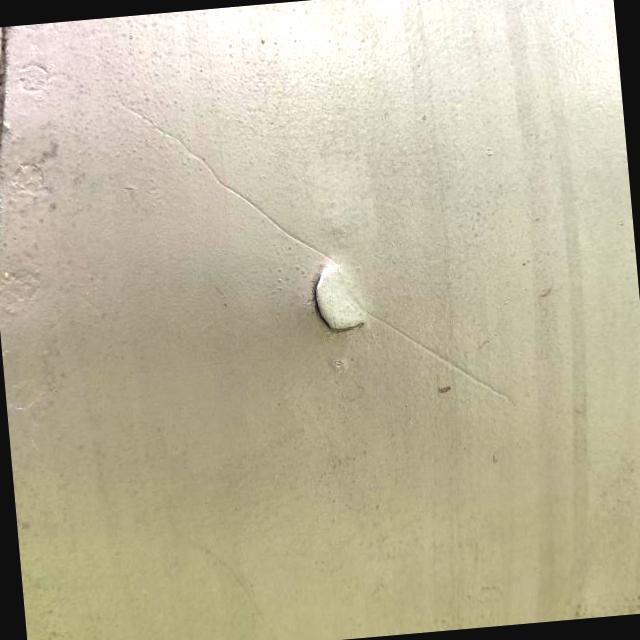crack: (282, 238, 386, 350)
